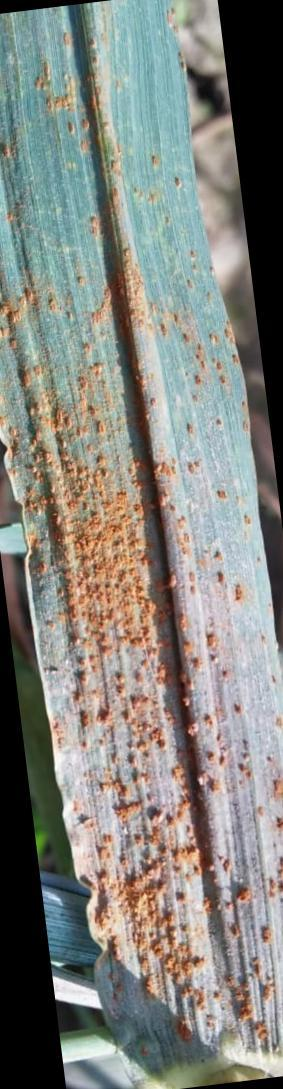Wheat: (27, 211, 157, 760), (192, 746, 283, 1023), (76, 779, 188, 975)
